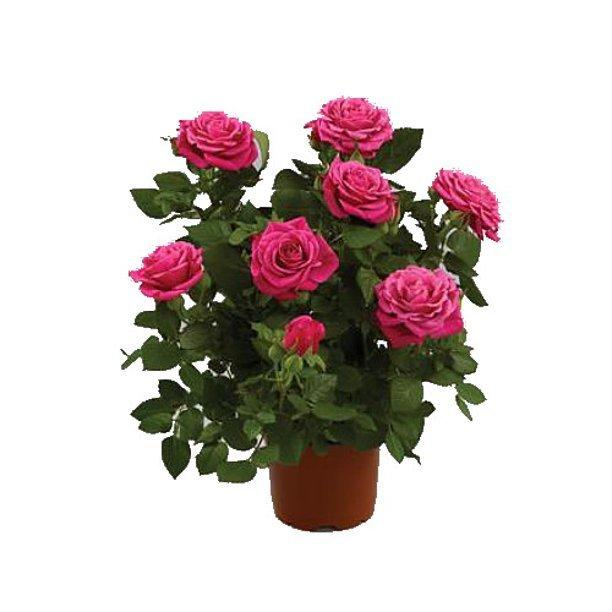Rose: (363, 260, 475, 357), (162, 95, 266, 190), (244, 215, 348, 303), (298, 84, 408, 163), (428, 164, 509, 247), (315, 153, 399, 230), (127, 235, 214, 300), (272, 310, 343, 370)
